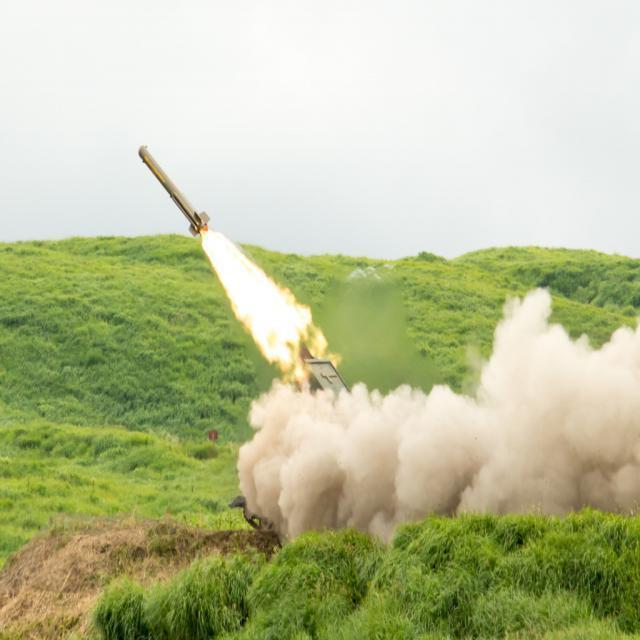missile: (137, 143, 210, 240)
